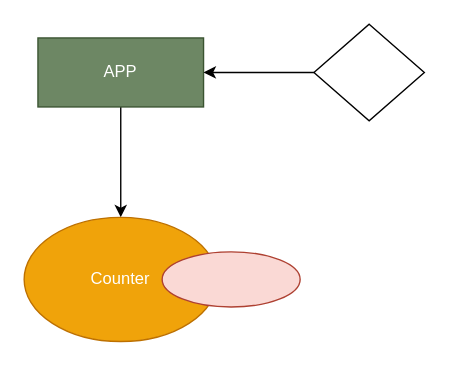
Some shapes in this 449 by 366 pixel diagram are drawn without their labels. The centre of each missing label's shape, as x and y in pixels:
Error: the point at 368,72
use client: the point at 230,278
